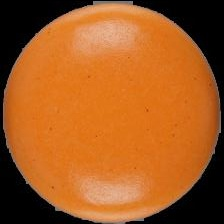58118-7927: (0, 0, 224, 224)
